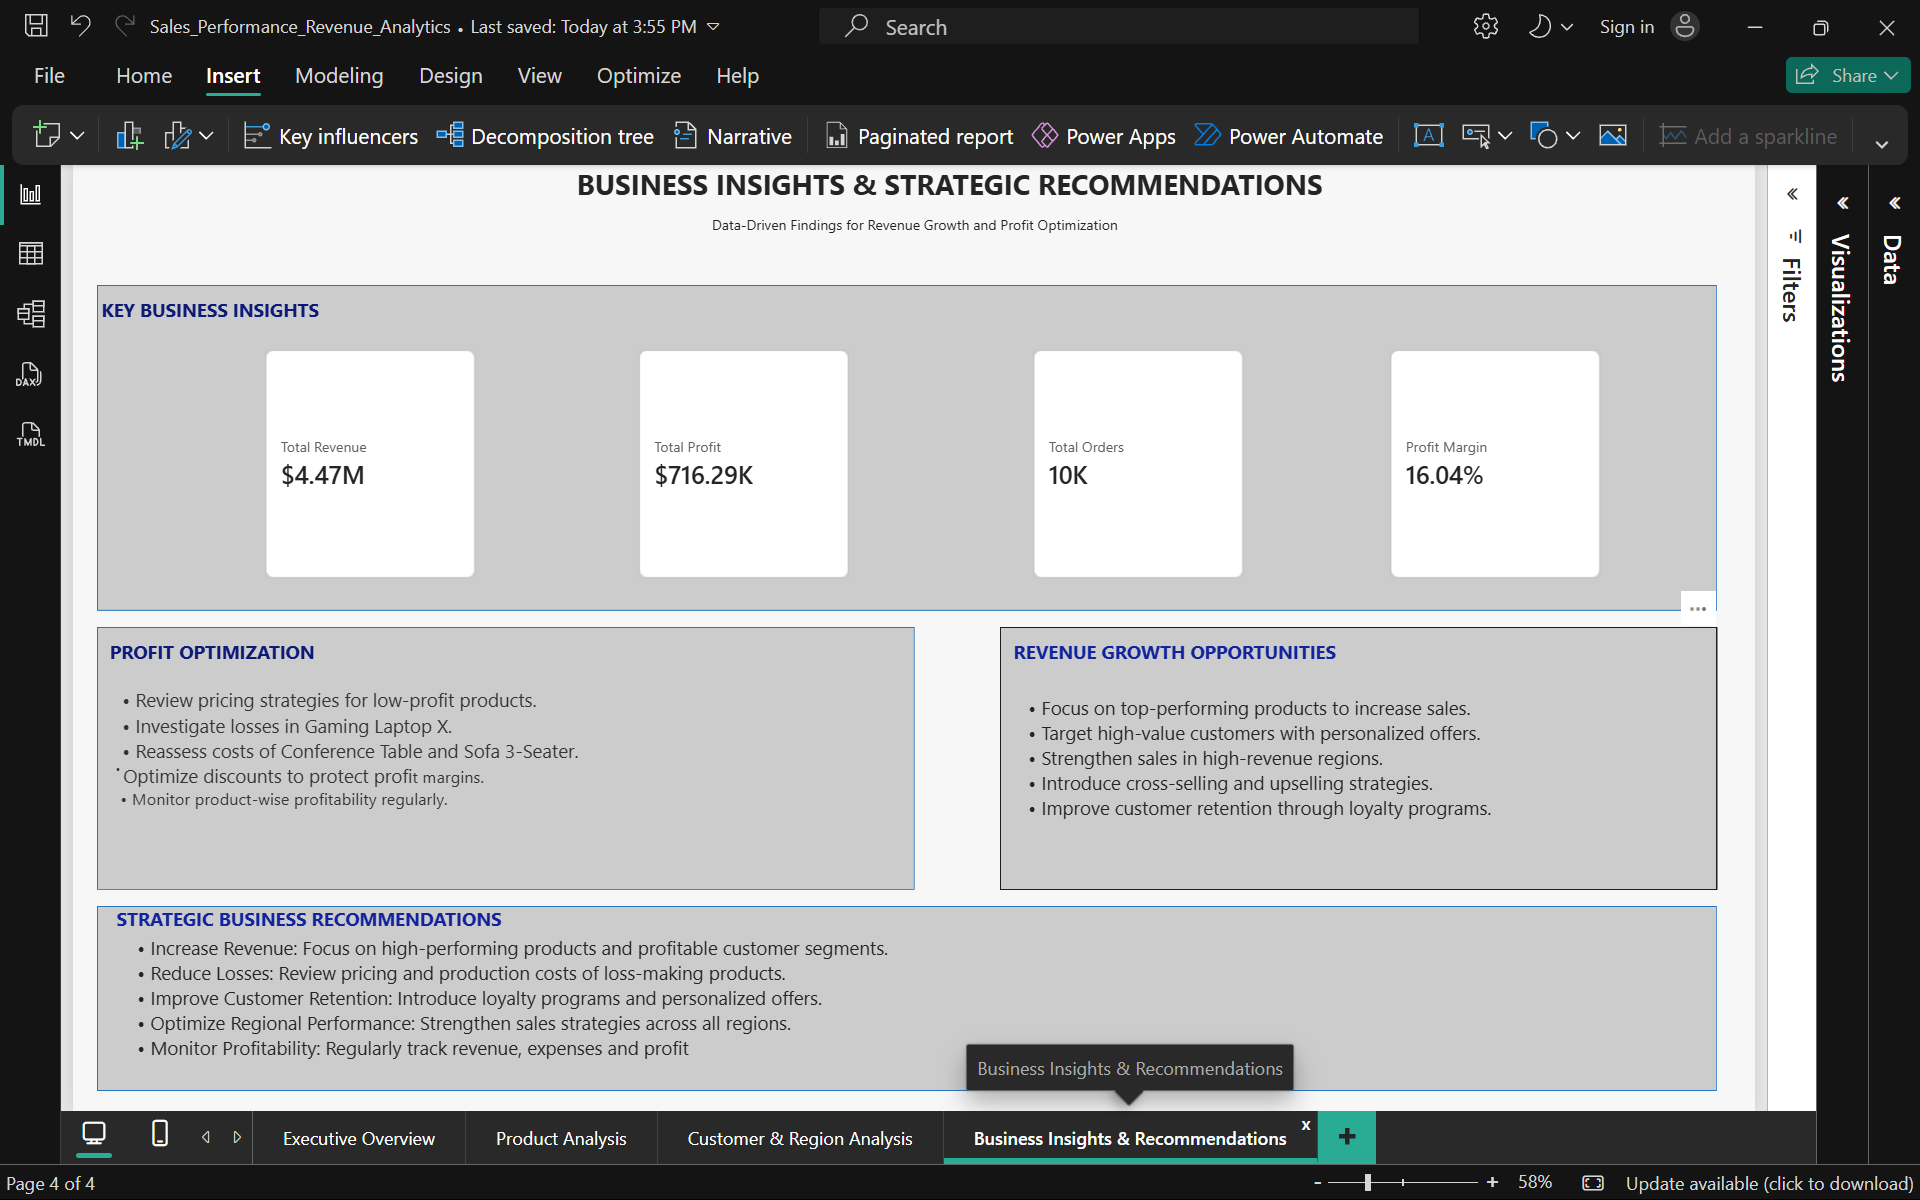

The page's visual inventory and layout, read from the dashboard file:
{"tool":"powerbi","page":{"name":"Business Insights & Recommendations","canvas":[1920,1080],"ordinal":3},"visuals":[{"type":"textbox","box":[539.4,0,923,56.5],"z":0},{"type":"textbox","box":[729.5,56.5,469.2,36],"z":1000},{"type":"shape","box":[27.1,137.5,1849.6,371.9],"z":2000},{"type":"textbox","box":[32.9,151.1,249.8,42.6],"z":3000},{"type":"shape","box":[1057.5,526.8,819.3,300.2],"z":4000},{"type":"textbox","box":[1073,540.4,408.7,56.2],"z":5000},{"type":"shape","box":[27.1,526.8,933.5,300.2],"z":6000},{"type":"textbox","box":[29.1,540.4,259.5,56.2],"z":7000},{"type":"shape","box":[27.1,846.4,1849.6,211.1],"z":8000},{"type":"textbox","box":[13.6,846.4,511.3,32.9],"z":9000},{"type":"cardVisual","title":"Total Revenue","fields":{"Data":["sales_data.Total Revenue"]},"box":[218.9,211.1,240.8,261.2],"z":10000},{"type":"cardVisual","title":"\tTotal Profit","fields":{"Data":["sales_data.Total Profit"]},"box":[645,211.1,240.8,261.2],"z":11000},{"type":"cardVisual","title":"Total Orders","fields":{"Data":["sales_data.Total Orders"]},"box":[1096.2,211.1,240.8,261.2],"z":12000},{"type":"cardVisual","title":"Profit Margin","fields":{"Data":["sales_data.Profit Margin"]},"box":[1503,211.1,240.8,261.2],"z":13000},{"type":"textbox","box":[1073,604.3,656.6,176.2],"z":14000},{"type":"textbox","box":[38.7,596.5,648.8,184],"z":15000},{"type":"textbox","box":[56.5,878.5,964.1,179.8],"z":16000}]}

Visuals, with their boxes on the page's 1920x1080 design canvas (x1, y1, x2, y2). These are canvas units, not pixel positions in the 1920x1200 screenshot, which may show the page scaled, cropped or inside an application window:
textbox: l=539, t=0, r=1462, b=56
textbox: l=730, t=56, r=1199, b=92
shape: l=27, t=138, r=1877, b=509
textbox: l=33, t=151, r=283, b=194
shape: l=1058, t=527, r=1877, b=827
textbox: l=1073, t=540, r=1482, b=597
shape: l=27, t=527, r=961, b=827
textbox: l=29, t=540, r=289, b=597
shape: l=27, t=846, r=1877, b=1058
textbox: l=14, t=846, r=525, b=879
"Total Revenue" cardVisual: l=219, t=211, r=460, b=472
"	Total Profit" cardVisual: l=645, t=211, r=886, b=472
"Total Orders" cardVisual: l=1096, t=211, r=1337, b=472
"Profit Margin" cardVisual: l=1503, t=211, r=1744, b=472
textbox: l=1073, t=604, r=1730, b=780
textbox: l=39, t=596, r=688, b=780
textbox: l=56, t=878, r=1021, b=1058
